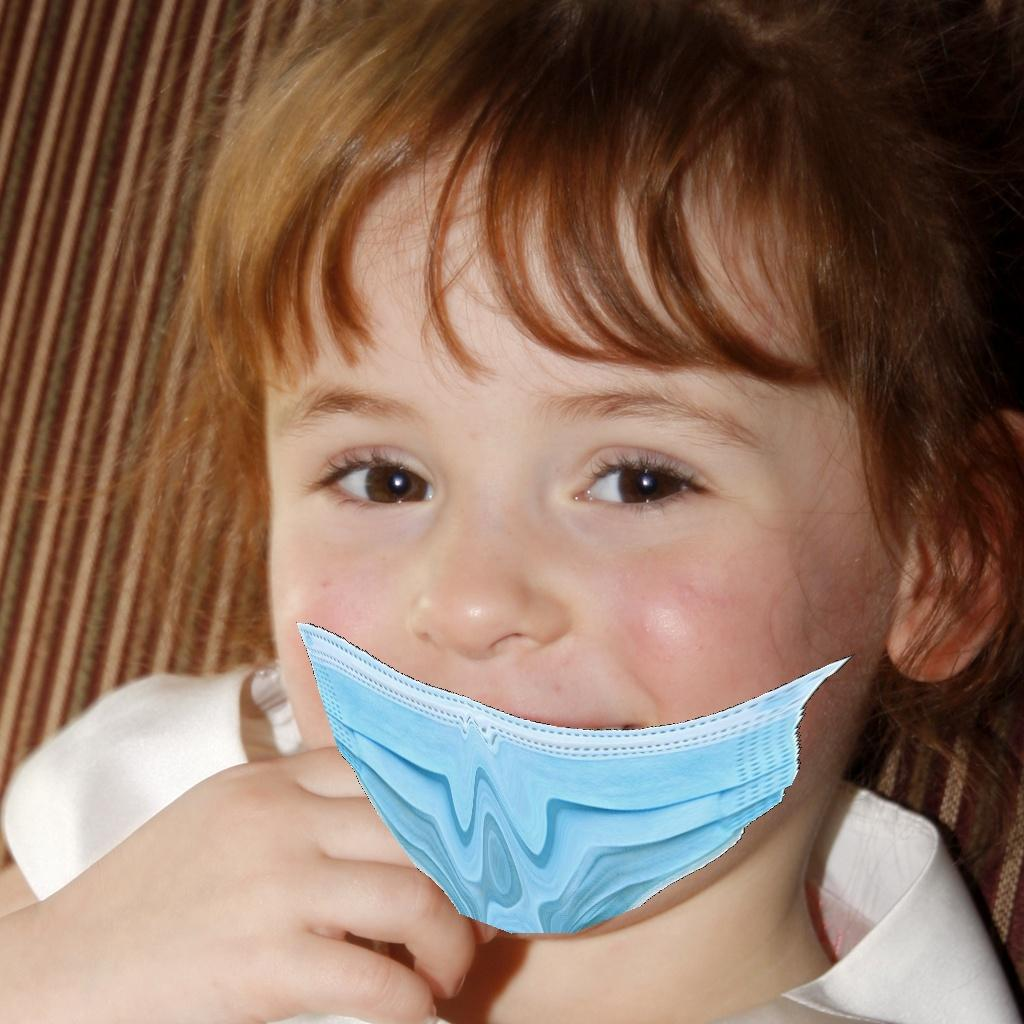Máscara Incorreta: (250, 313, 910, 921)
